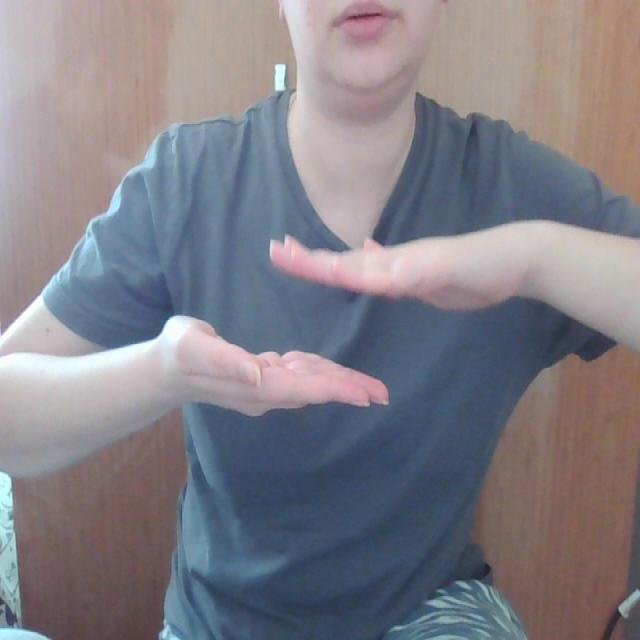Arkadas: (0, 213, 640, 427)
